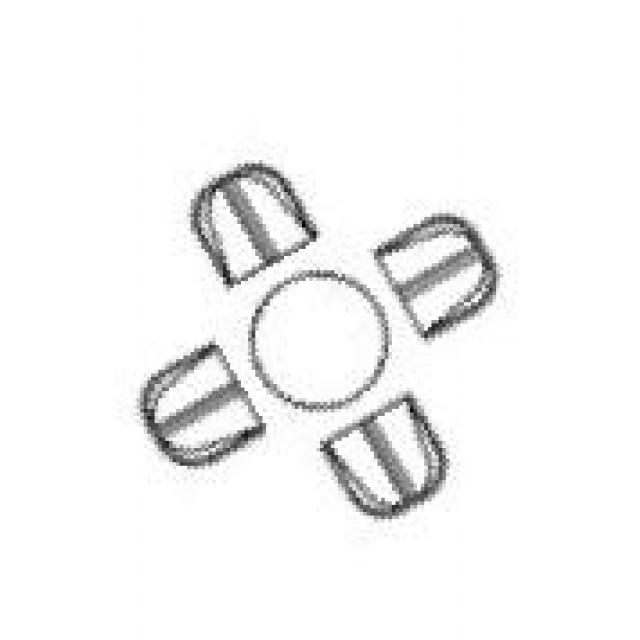table: (137, 157, 486, 516)
